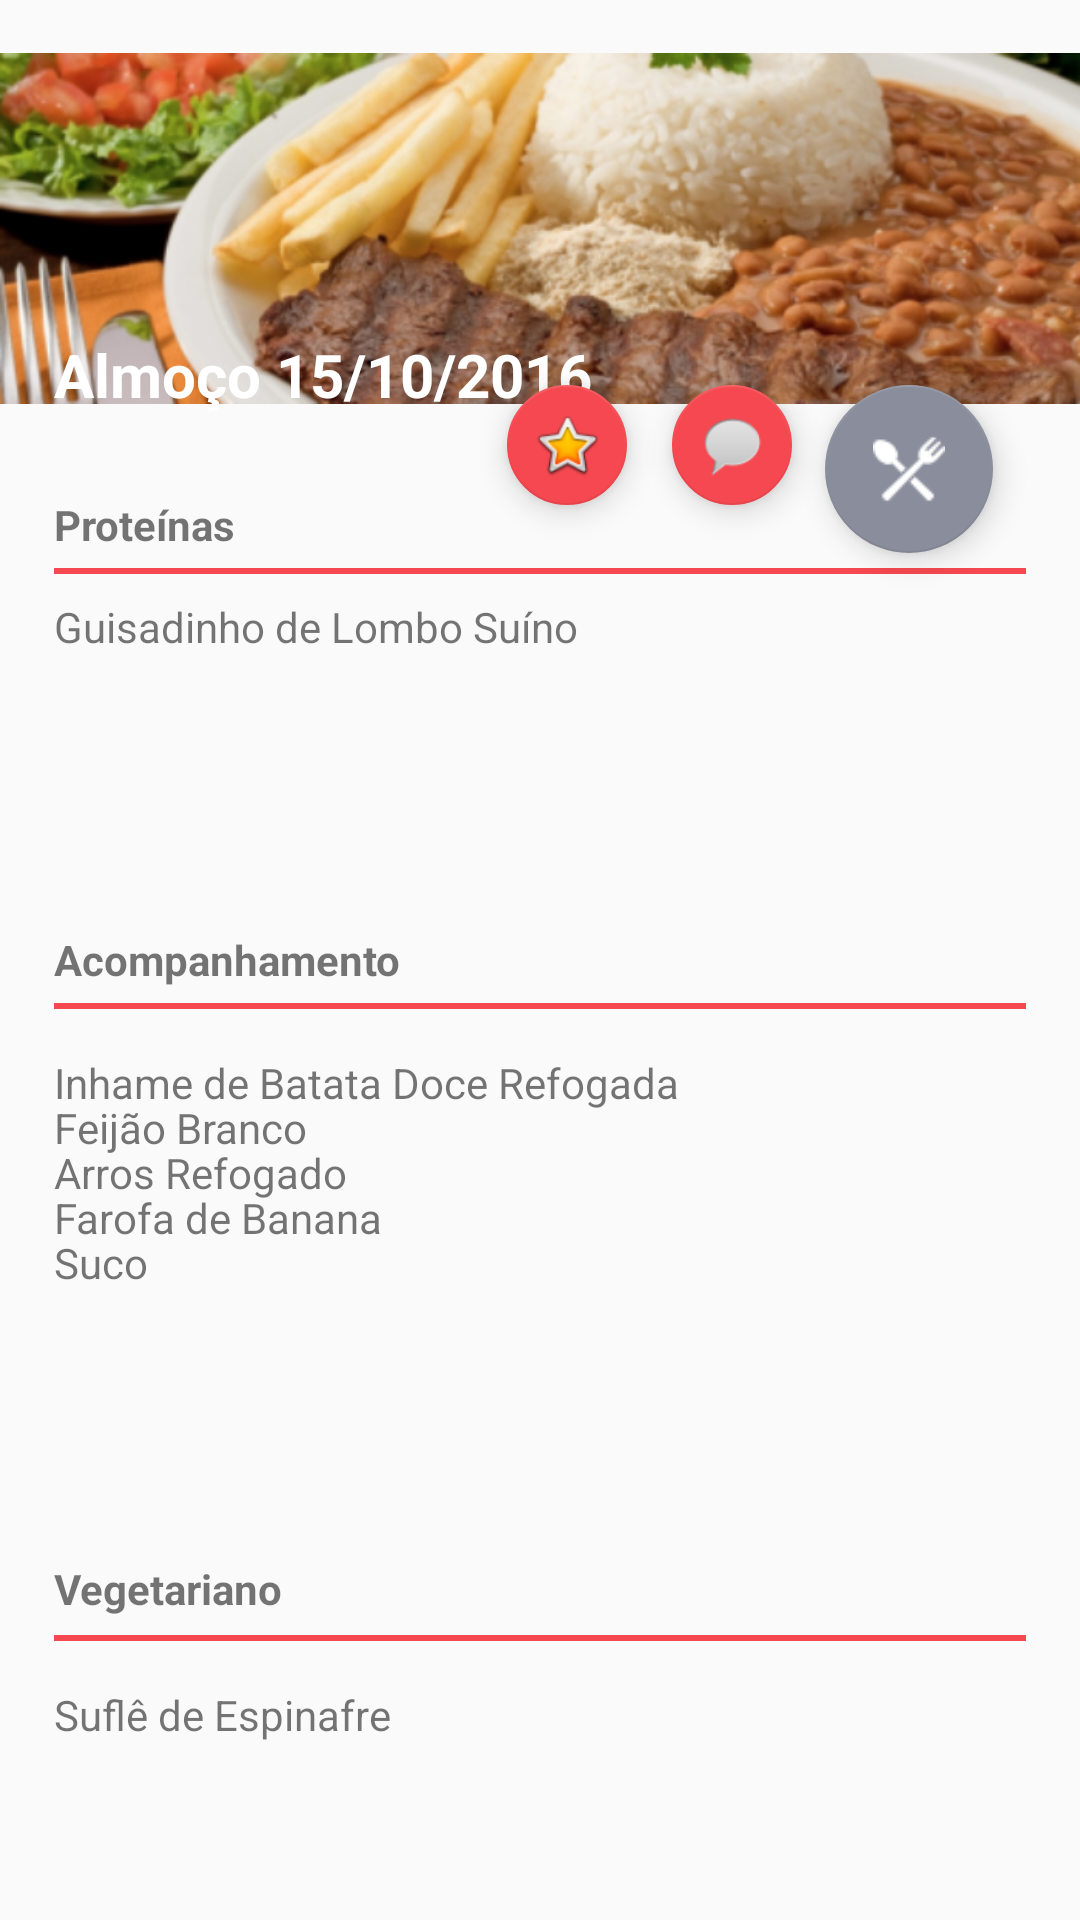

Icon click points for this 1080 x 1920 phone screenshot, format [x,y]:
garfofaca: [909,469]
